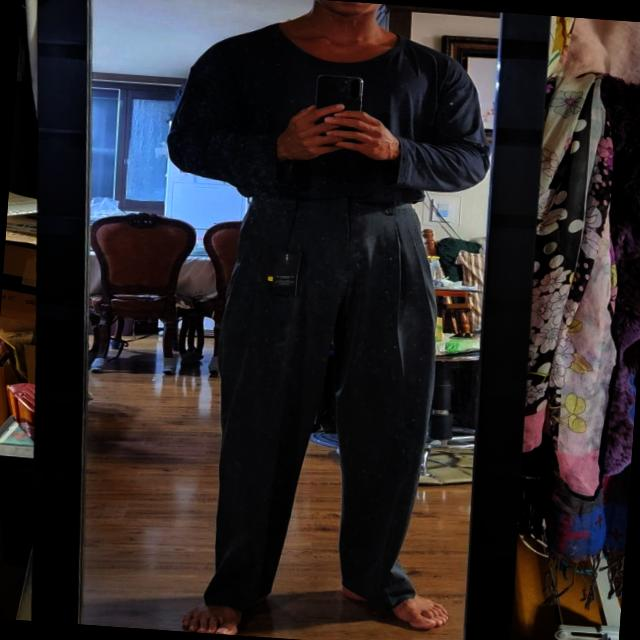longsleeve: (167, 16, 498, 209)
slacks: (201, 181, 450, 622)
